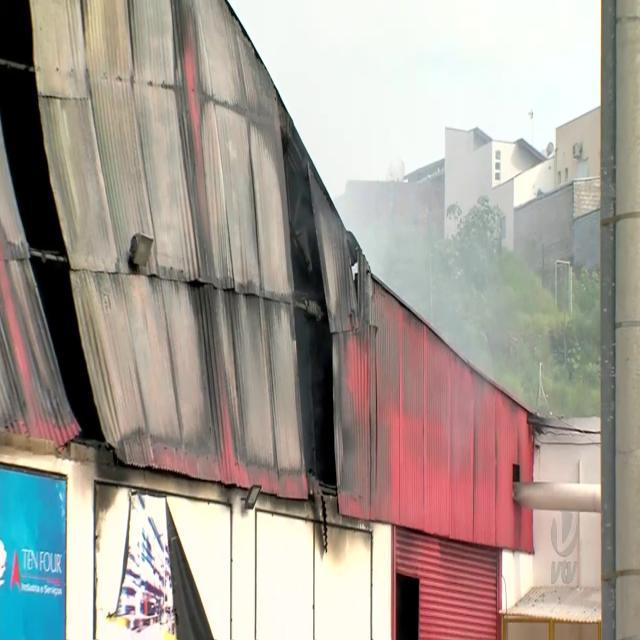Smoke: (358, 80, 582, 388)
